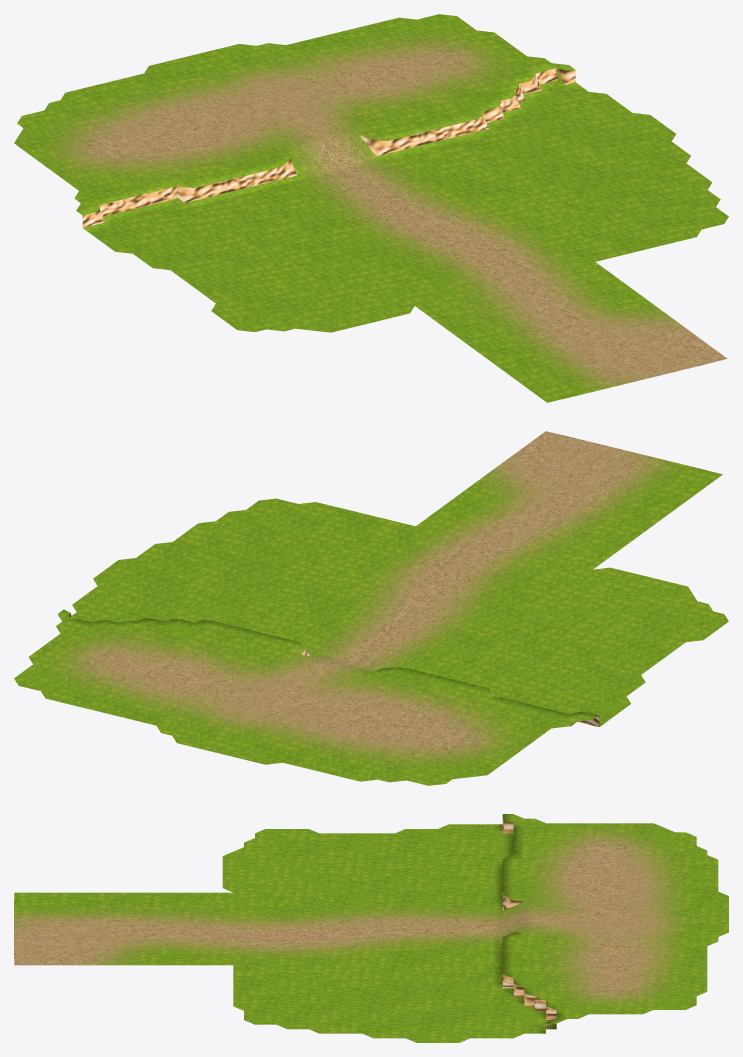
The model's file is Stage.FBX.
The picture shows the model from 3 angles, top to bottom: view 1: azimuth 30°, elevation 25°; view 2: azimuth 150°, elevation 25°; view 3: azimuth 270°, elevation 25°; orthographic projection. The views are drawn at different scales.
Parts seen in each view (by area): view 1: Plane001; view 2: Plane001; view 3: Plane001.
Boxes of the visible parts, x1=… form: Plane001: x1=14, y1=14, x2=728, y2=402; Plane001: x1=14, y1=431, x2=728, y2=785; Plane001: x1=14, y1=814, x2=728, y2=1042.
Size of the model in its own units: 189 by 4.13 by 261.
1 material, 1 textured.
